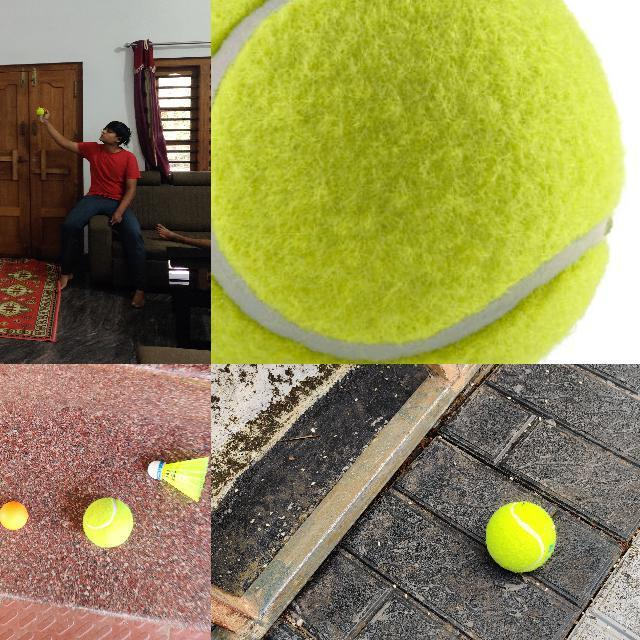tennis-ball: (211, 0, 625, 363), (483, 500, 557, 572), (83, 497, 134, 547), (36, 107, 44, 115)
